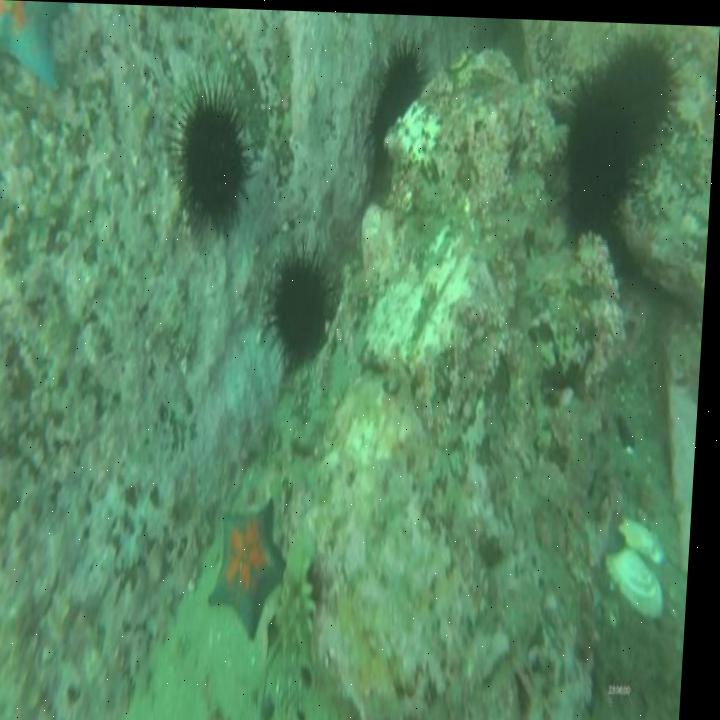echinus: (560, 52, 642, 239), (176, 85, 254, 239), (607, 25, 684, 161), (366, 37, 428, 174), (270, 243, 335, 362)
scallop: (611, 506, 679, 621)
starfish: (216, 493, 300, 637), (0, 0, 71, 105)
